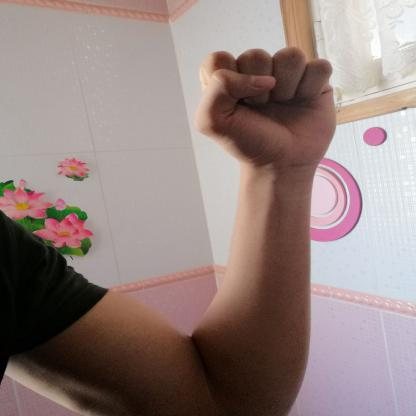SAD: (171, 38, 350, 177)
